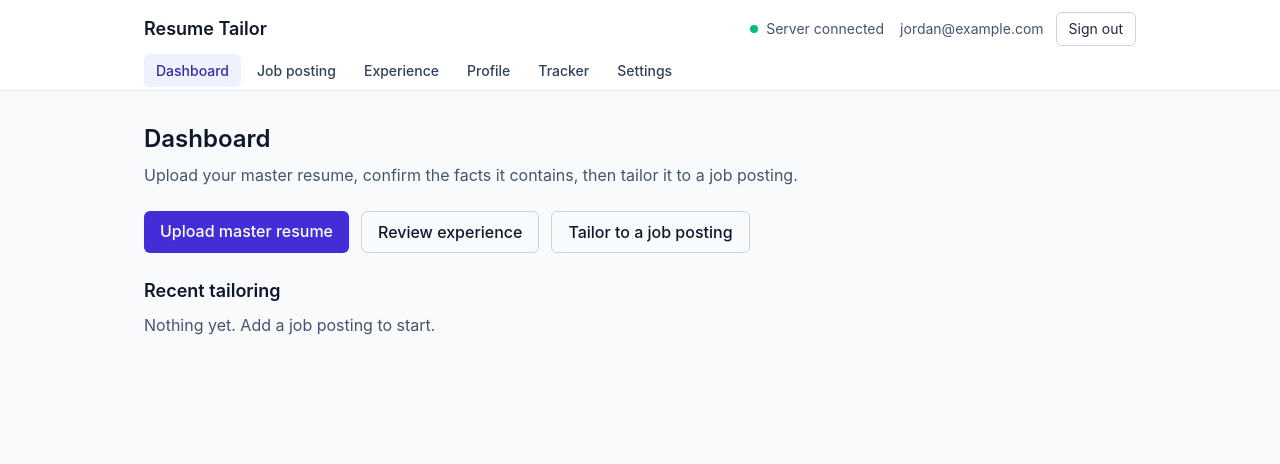
Scenario: App shell › signs out
Click the button "Sign out" at coordinates (1096, 29), box left=1056, top=12, right=1136, bottom=46
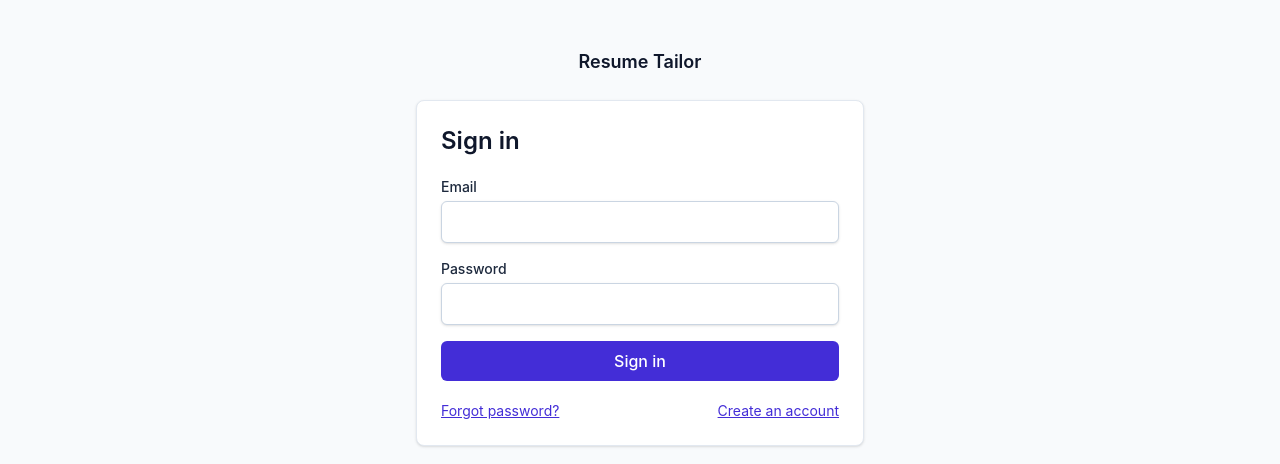
Expected: the heading "Sign in" is shown, left=441, top=126, right=520, bottom=155
